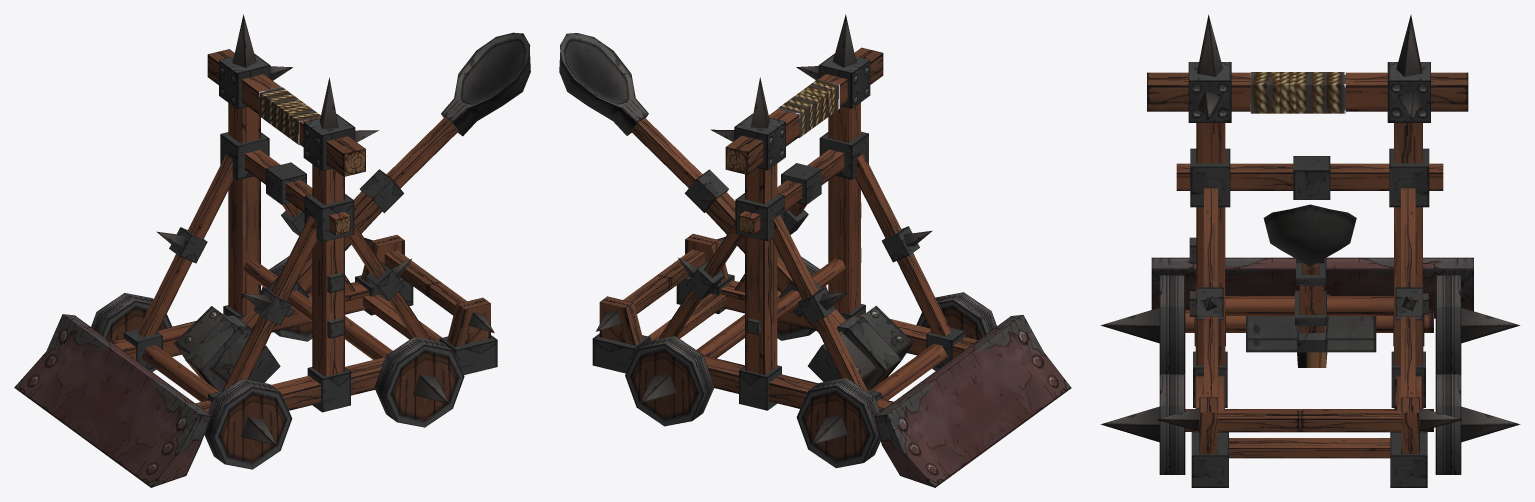
The model's file is 2_CZ_TouShiChe_01.FBX.
3 views of the same model, side by side, from view 1: azimuth 30°, elevation 25°; view 2: azimuth 150°, elevation 25°; view 3: azimuth 270°, elevation 25° (orthographic). The views are drawn at different scales.
Parts seen in each view (by area): view 1: 2_CZ_TouShiChe_01; view 2: 2_CZ_TouShiChe_01; view 3: 2_CZ_TouShiChe_01.
Boxes of the visible parts, x1=… form: 2_CZ_TouShiChe_01: x1=14, y1=14, x2=530, y2=487; 2_CZ_TouShiChe_01: x1=559, y1=14, x2=1071, y2=487; 2_CZ_TouShiChe_01: x1=1100, y1=14, x2=1520, y2=487.
Size of the model in its own units: 1179 by 893 by 818.
